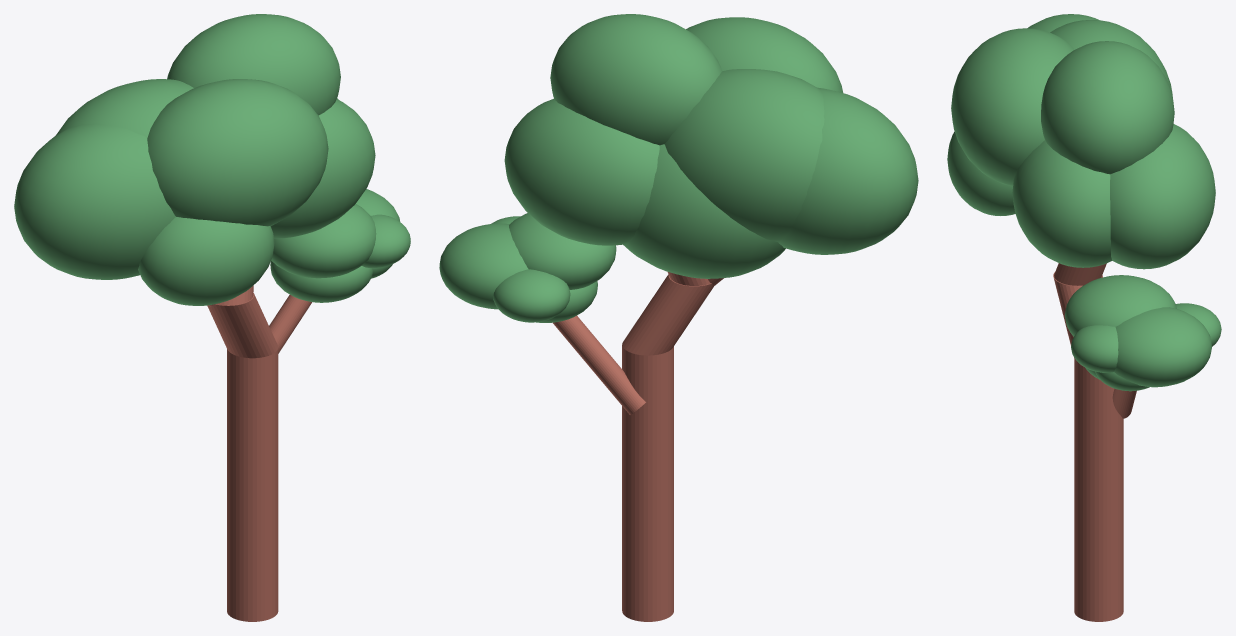
Rendered from three.fbx.
The picture shows the model from 3 angles, left to right: view 1: azimuth 30°, elevation 25°; view 2: azimuth 150°, elevation 25°; view 3: azimuth 270°, elevation 25°; orthographic projection. The views are drawn at different scales.
Visible parts, largest first — view 1: 구체.015, 실린더.012, 구체.005; view 2: 구체.015, 실린더.012, 구체.005; view 3: 구체.015, 실린더.012, 구체.005.
Boxes of the visible parts, x1=… form: 구체.015: x1=14, y1=14, x2=375, y2=305; 실린더.012: x1=207, y1=285, x2=312, y2=621; 구체.005: x1=270, y1=189, x2=410, y2=302; 구체.015: x1=504, y1=14, x2=918, y2=278; 실린더.012: x1=553, y1=272, x2=723, y2=621; 구체.005: x1=439, y1=213, x2=616, y2=322; 구체.015: x1=947, y1=14, x2=1215, y2=269; 실린더.012: x1=1053, y1=263, x2=1136, y2=621; 구체.005: x1=1065, y1=275, x2=1221, y2=391.
Size of the model in its own units: 5421 by 7322 by 3239.
